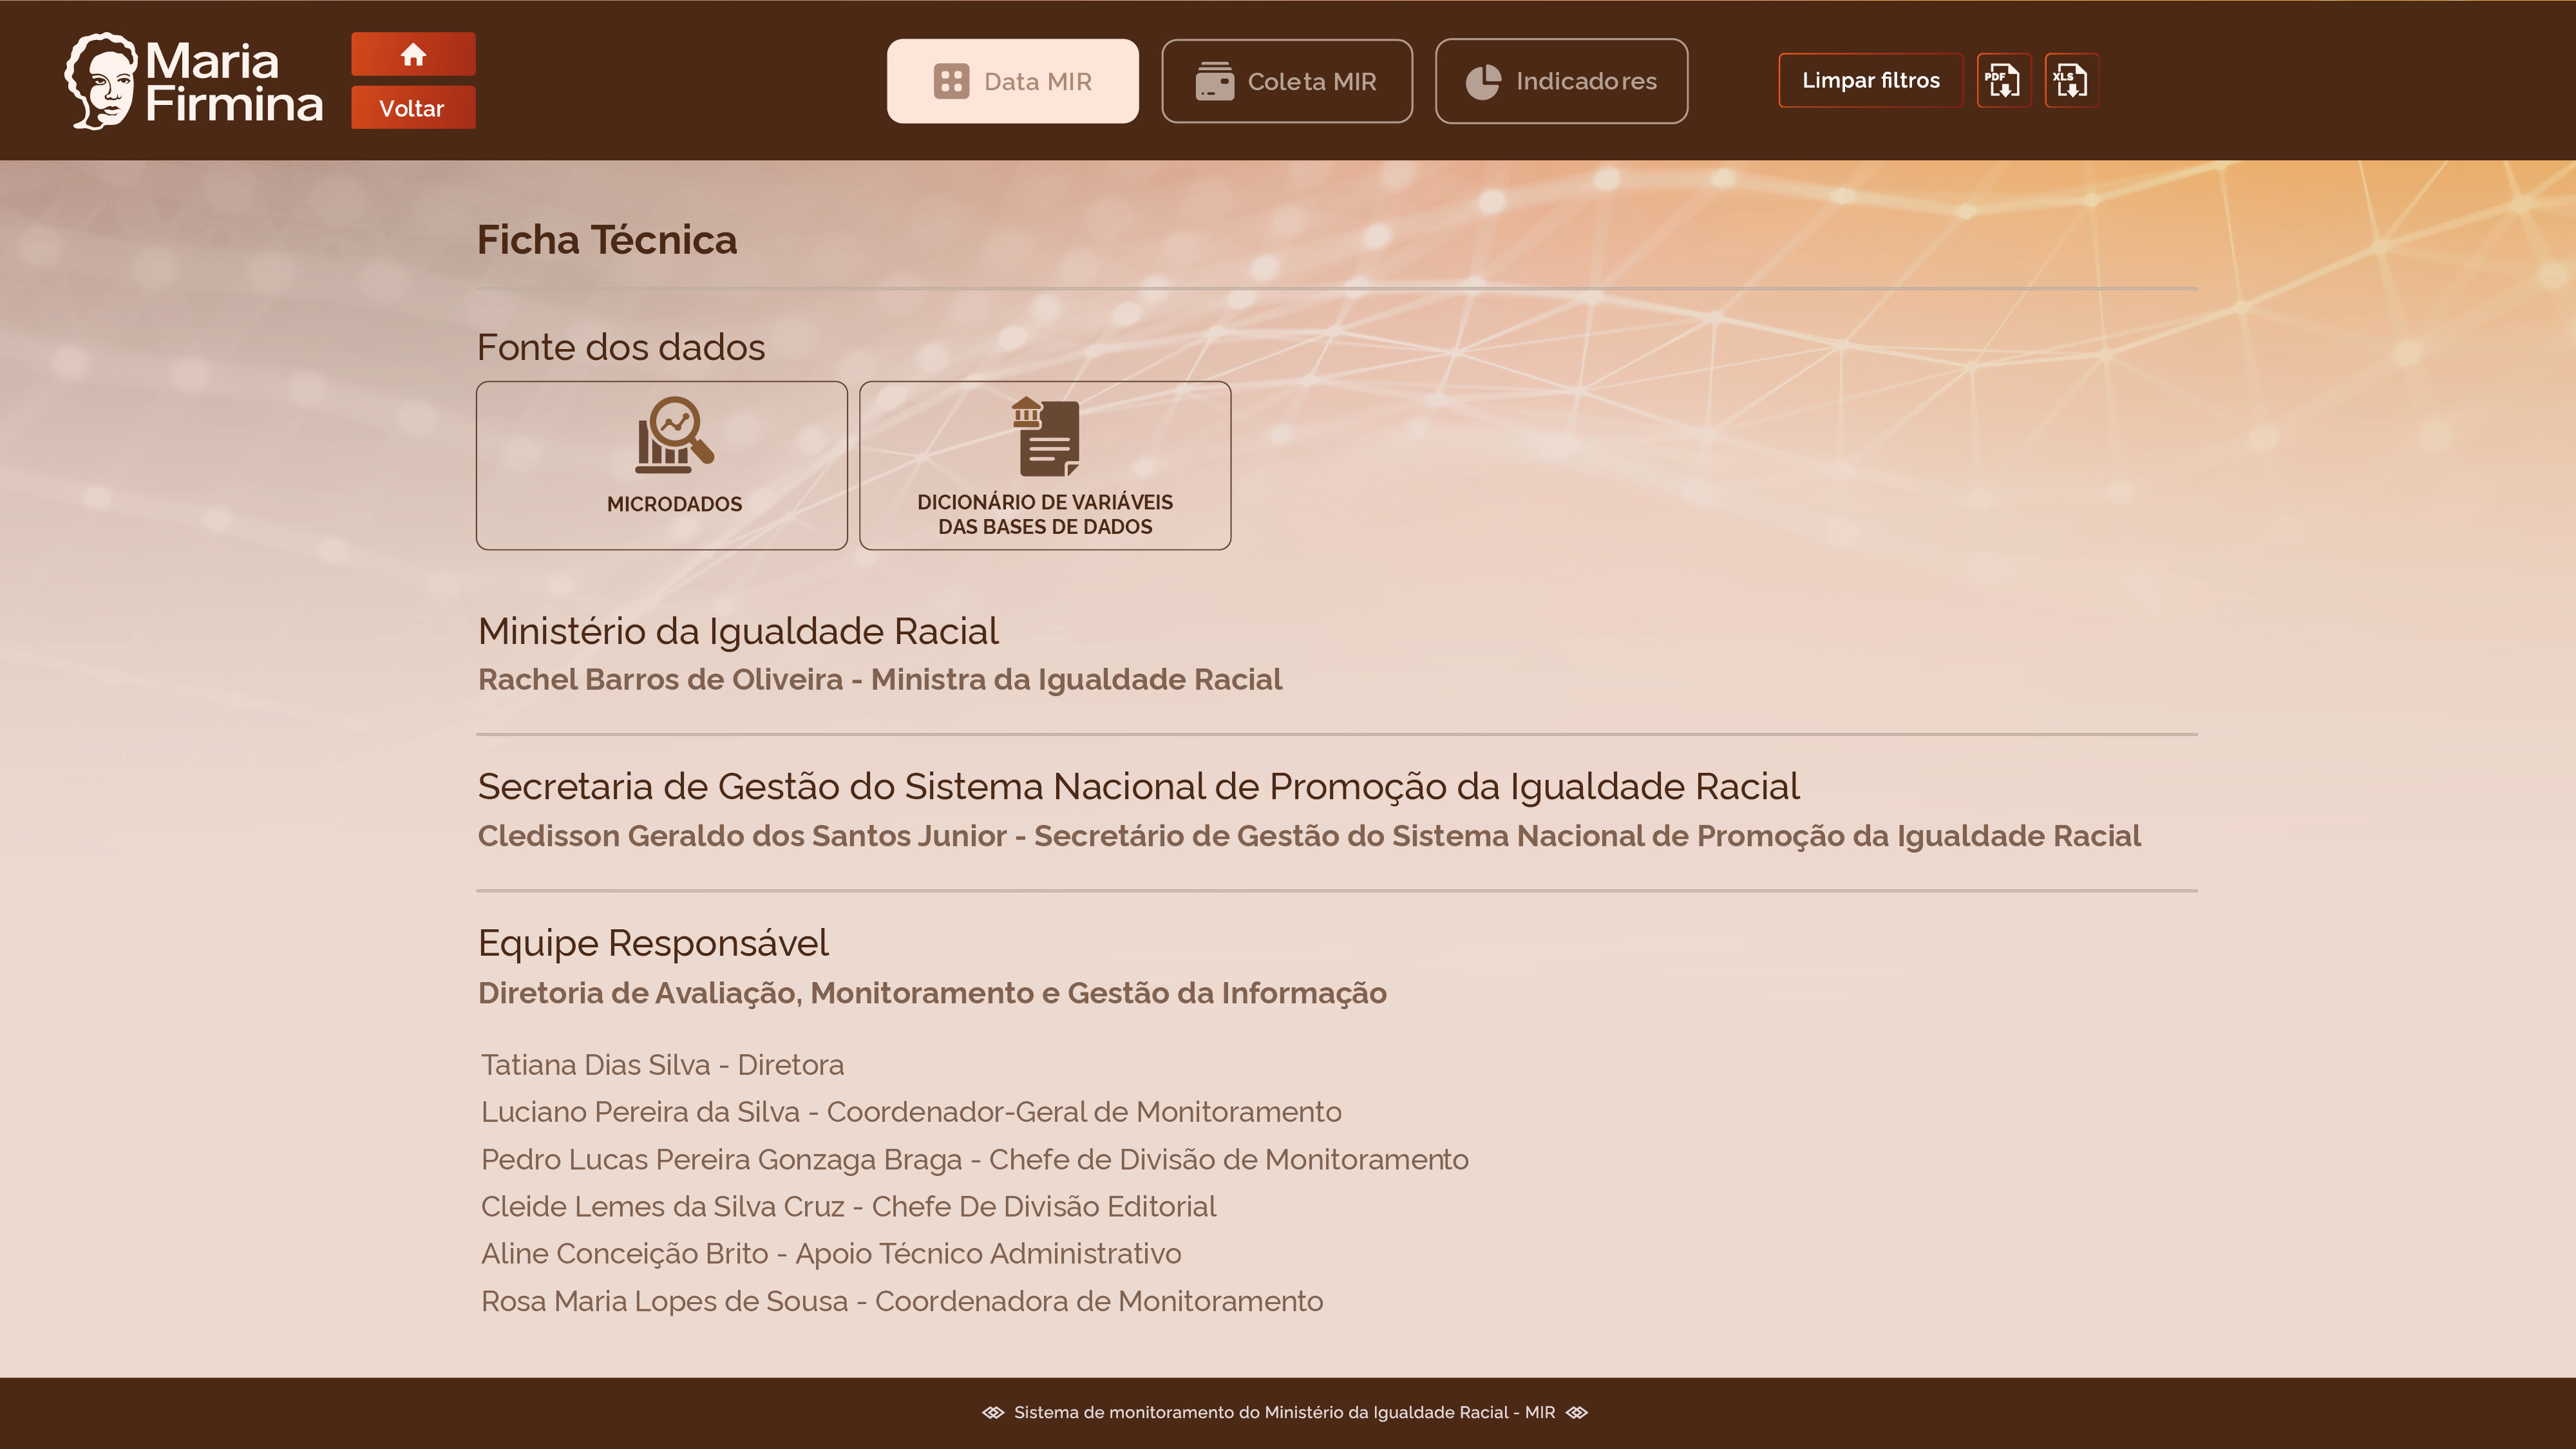

This screenshot's page, from the dashboard's own definition file:
{"tool":"powerbi","page":{"name":"Ficha Técnica","canvas":[1920,1080],"ordinal":25},"visuals":[{"type":"actionButton","box":[640,281.4,278.6,130],"z":0},{"type":"actionButton","box":[261.5,62,94.3,32.9],"z":1000},{"type":"actionButton","box":[261.7,22.8,92.2,33.3],"z":2000},{"type":"textbox","box":[1642.6,29.3,167.6,71.8],"z":3000},{"type":"actionButton","box":[1326.7,40.7,137.8,38.9],"z":4000},{"type":"image","box":[1820,42,53.3,37.8],"z":5000},{"type":"actionButton","box":[661.3,28.7,187.3,62.7],"z":6000},{"type":"actionButton","box":[866,28.7,187.3,62.7],"z":7000},{"type":"actionButton","box":[1069.3,30,187.3,62.7],"z":8000}]}

Visuals, with their boxes on the page's 1920x1080 design canvas (x1, y1, x2, y2). These are canvas units, not pixel positions in the 2576x1449 screenshot, which may show the page scaled, cropped or inside an application window:
actionButton: select_region(640, 281, 919, 411)
actionButton: select_region(262, 62, 356, 95)
actionButton: select_region(262, 23, 354, 56)
textbox: select_region(1643, 29, 1810, 101)
actionButton: select_region(1327, 41, 1464, 80)
image: select_region(1820, 42, 1873, 80)
actionButton: select_region(661, 29, 849, 91)
actionButton: select_region(866, 29, 1053, 91)
actionButton: select_region(1069, 30, 1257, 93)
